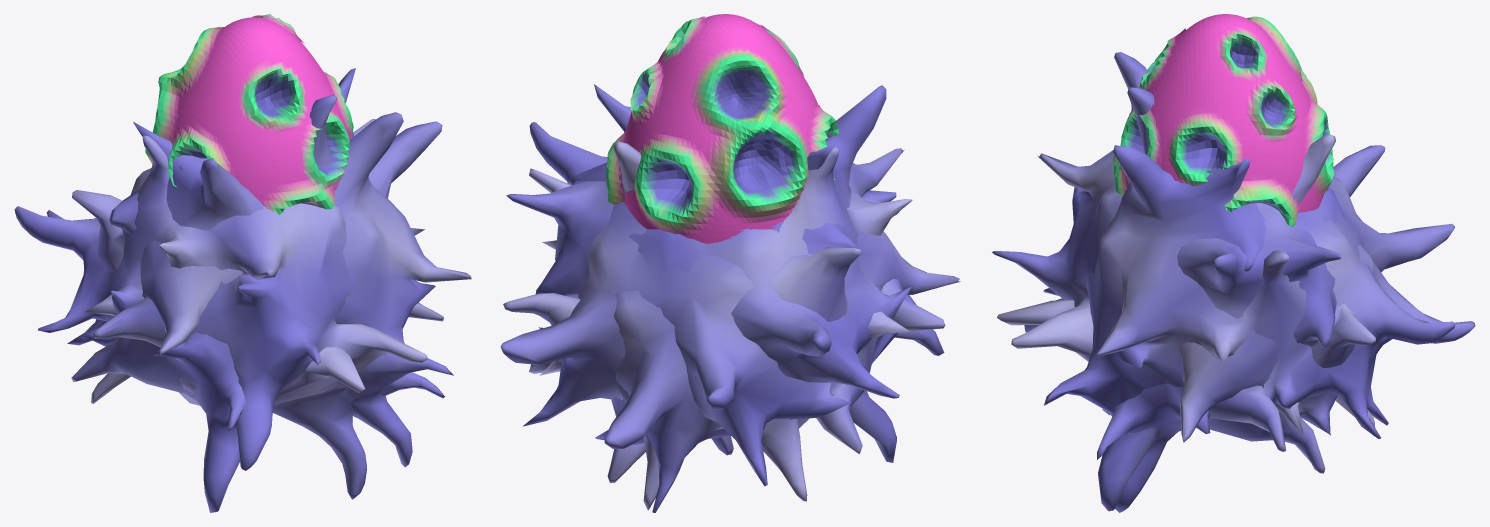
File: AlienExplorerPlants3.fbx
3 renders of one model, left to right at view 1: azimuth 30°, elevation 25°; view 2: azimuth 150°, elevation 25°; view 3: azimuth 270°, elevation 25°, orthographic. The views are drawn at different scales.
Visible parts, largest first — view 1: Quad Sphere, Quad Sphere 9; view 2: Quad Sphere, Quad Sphere 9; view 3: Quad Sphere, Quad Sphere 9.
Part boxes in pixels (<box>): Quad Sphere: <box>14,68,471,512</box>; Quad Sphere 9: <box>145,14,353,215</box>; Quad Sphere: <box>500,84,960,512</box>; Quad Sphere 9: <box>606,14,838,243</box>; Quad Sphere: <box>992,52,1475,512</box>; Quad Sphere 9: <box>1113,14,1334,226</box>.
Bounding box in the file's own units: 219 × 254 × 237.
